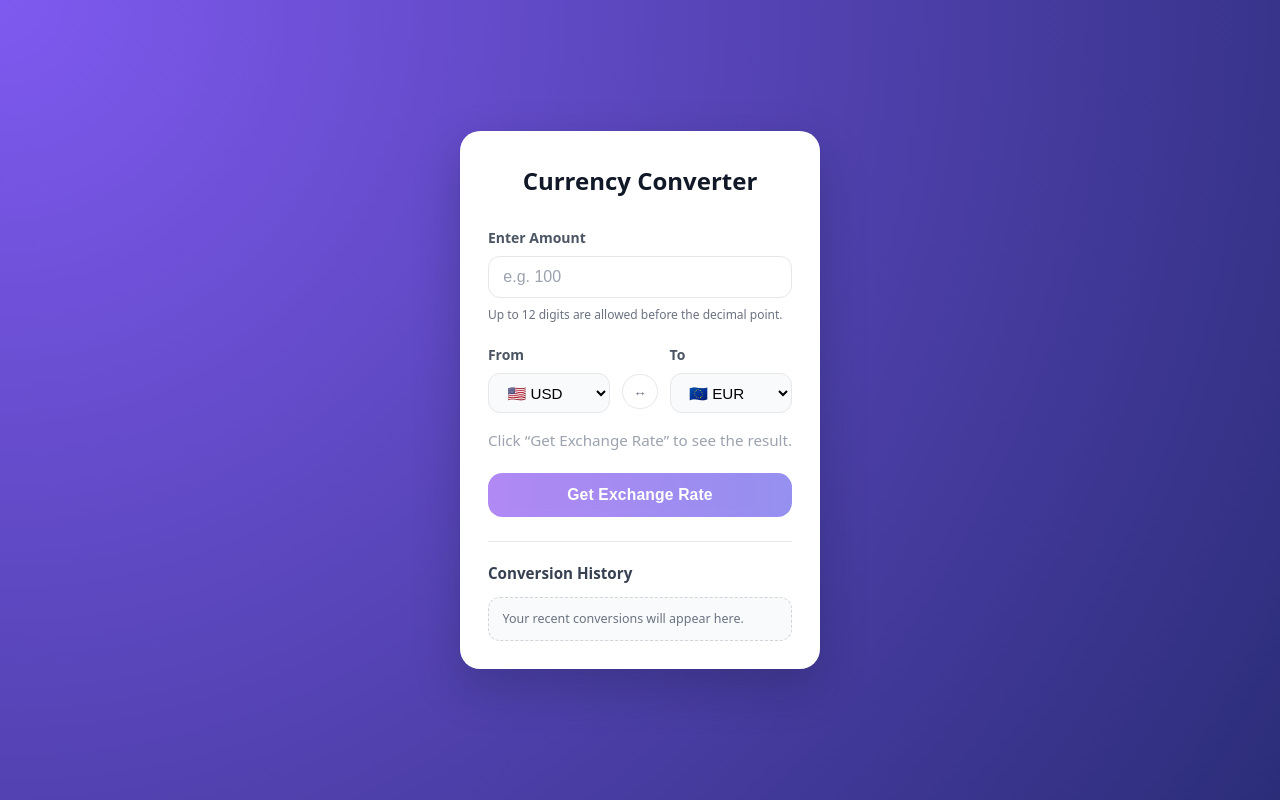
Test: CurrencyConverter › shows an error when getRates fails
The width and height of the screenshot is (1280, 800).
Type "10" into the number field labelled "Enter Amount". click: (640, 277)
box: [488,256,792,298]
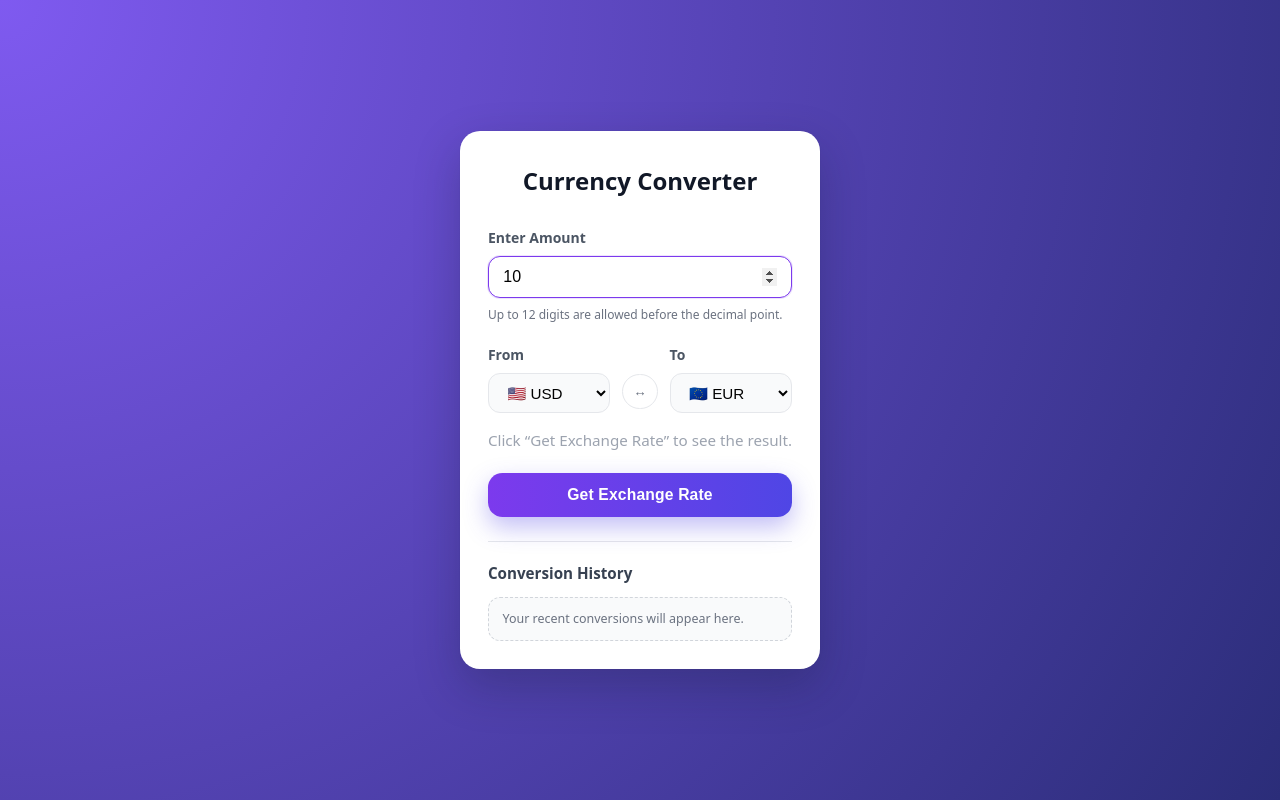
Click the button "Get Exchange Rate". click: (640, 495)
box: [488,473,792,517]
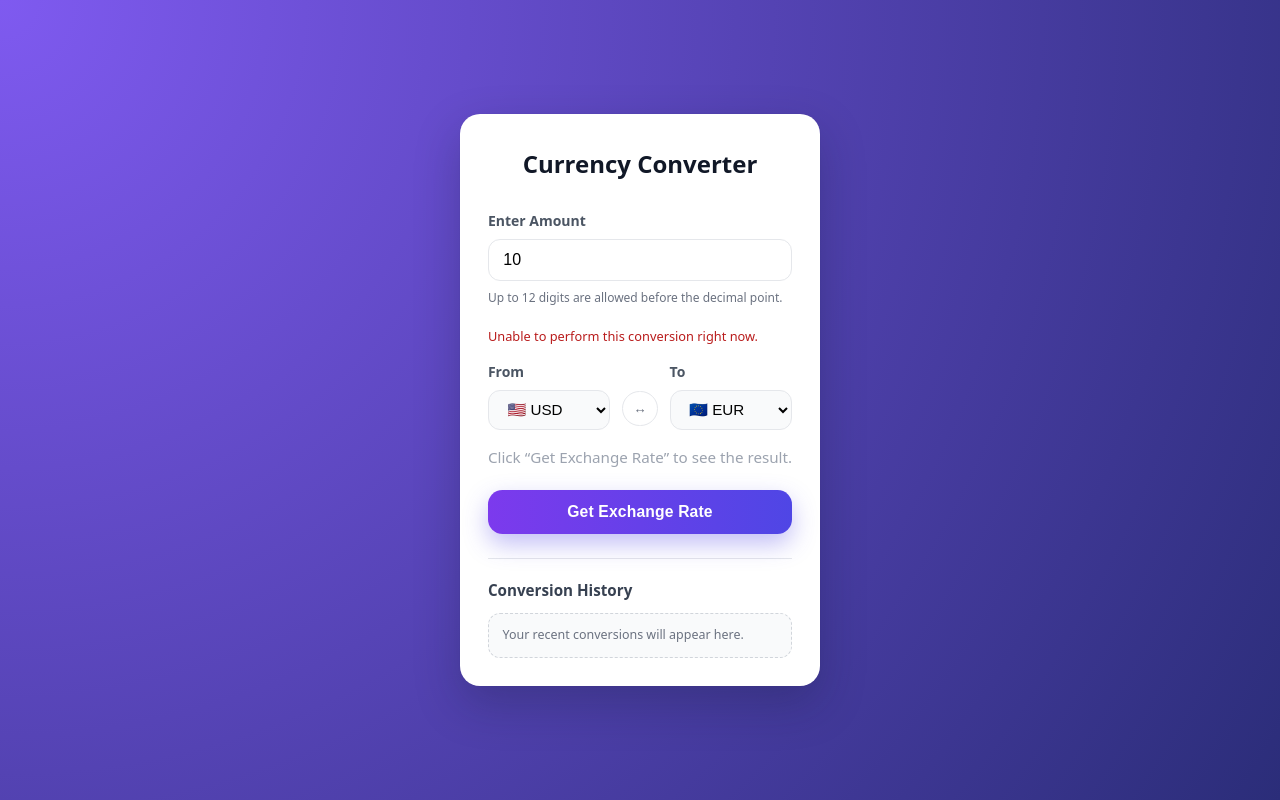
Now the text "Unable to perform this conversion right now." is shown, box [488,327,792,346]
